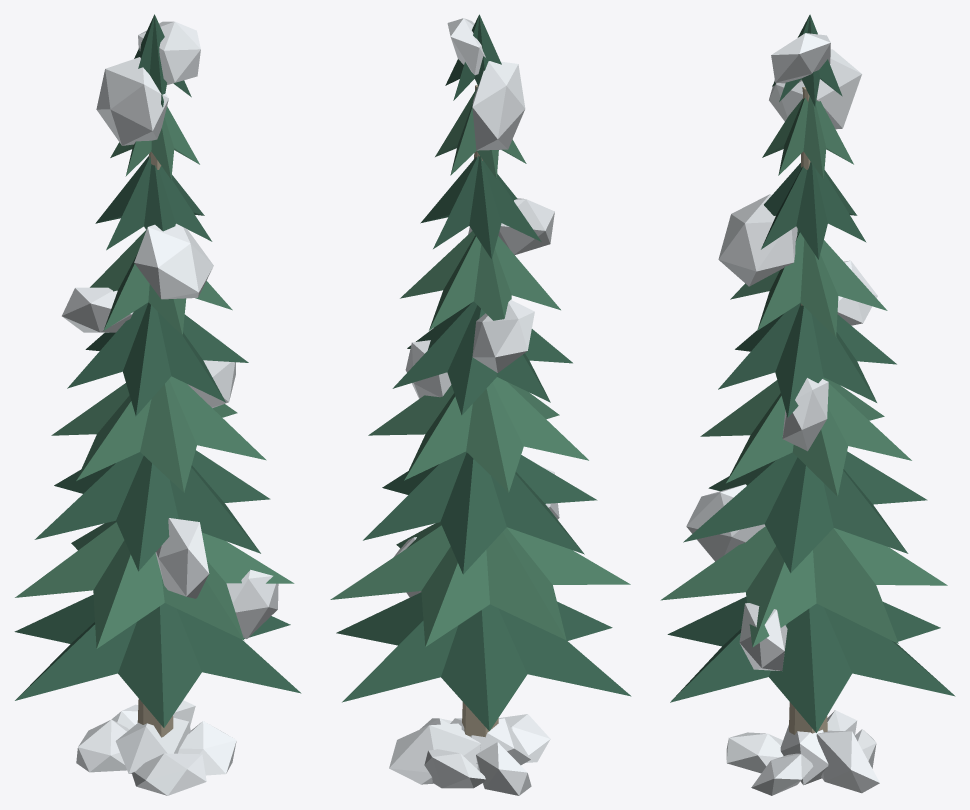
The model's file is SM_Tree_Conifer_Winter_01.glb.
The picture shows the model from 3 angles, left to right: view 1: azimuth 30°, elevation 25°; view 2: azimuth 150°, elevation 25°; view 3: azimuth 270°, elevation 25°; orthographic projection.
Visible parts, largest first — view 1: SM_Tree_Conifer_Winter_01; view 2: SM_Tree_Conifer_Winter_01; view 3: SM_Tree_Conifer_Winter_01.
Boxes of the visible parts, x1,y1,x2,y2 form: SM_Tree_Conifer_Winter_01: (14, 14, 301, 795); SM_Tree_Conifer_Winter_01: (330, 14, 631, 795); SM_Tree_Conifer_Winter_01: (660, 14, 955, 795).
Bounding box in the file's own units: 2.67 × 6.7 × 2.39.
